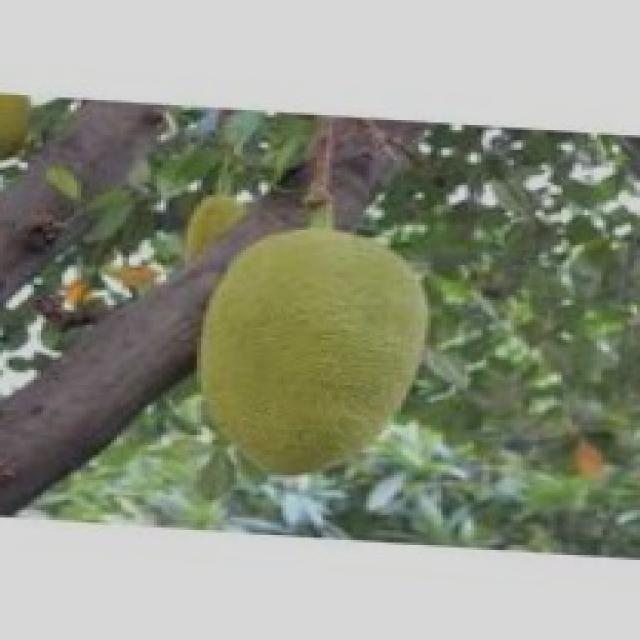Fruit: (178, 202, 452, 492)
